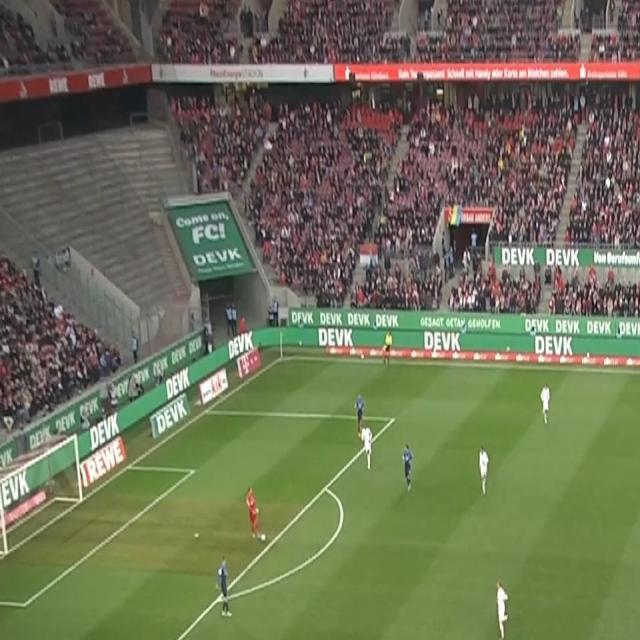ball: (260, 532, 267, 544)
